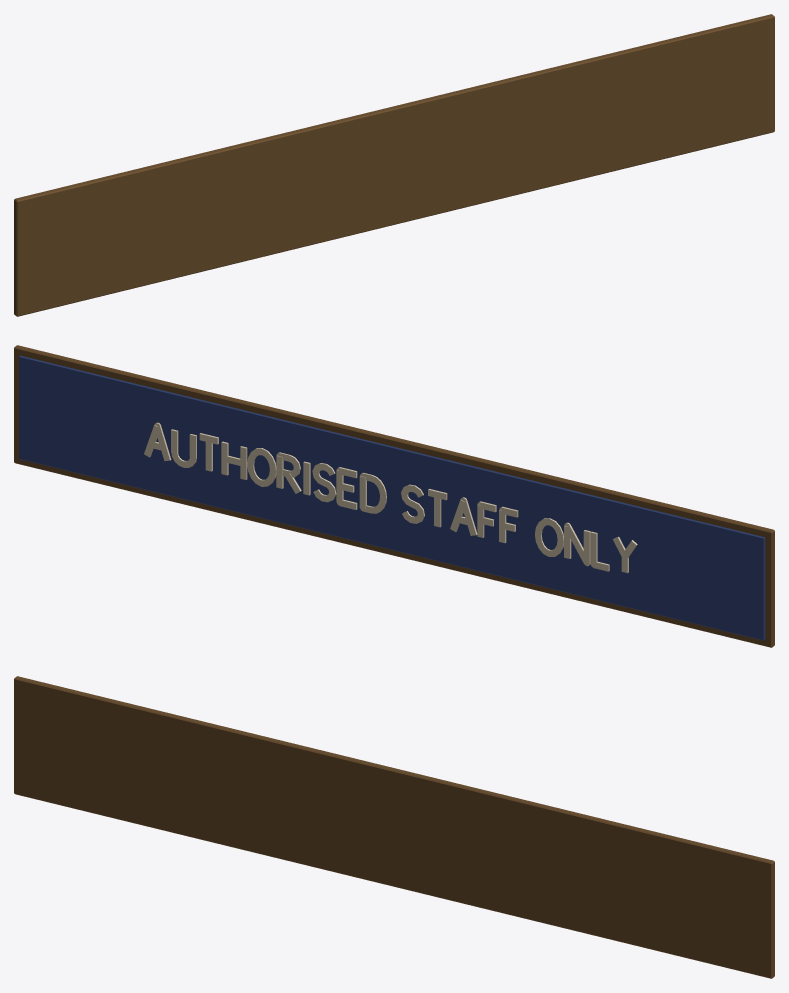
Rendered from prop_of_vault_sign_staff.glb.
3 renders of one model, top to bottom at view 1: azimuth 30°, elevation 25°; view 2: azimuth 150°, elevation 25°; view 3: azimuth 330°, elevation 25°, orthographic.
Visible parts, largest first — view 1: Sign; view 2: Sign; view 3: Sign.
Boxes of the visible parts, bbox=[...] form: Sign: bbox=[14, 14, 774, 316]; Sign: bbox=[14, 345, 774, 647]; Sign: bbox=[14, 676, 774, 978].
Bounding box in the file's own units: 1.5 × 0.22 × 0.02.
